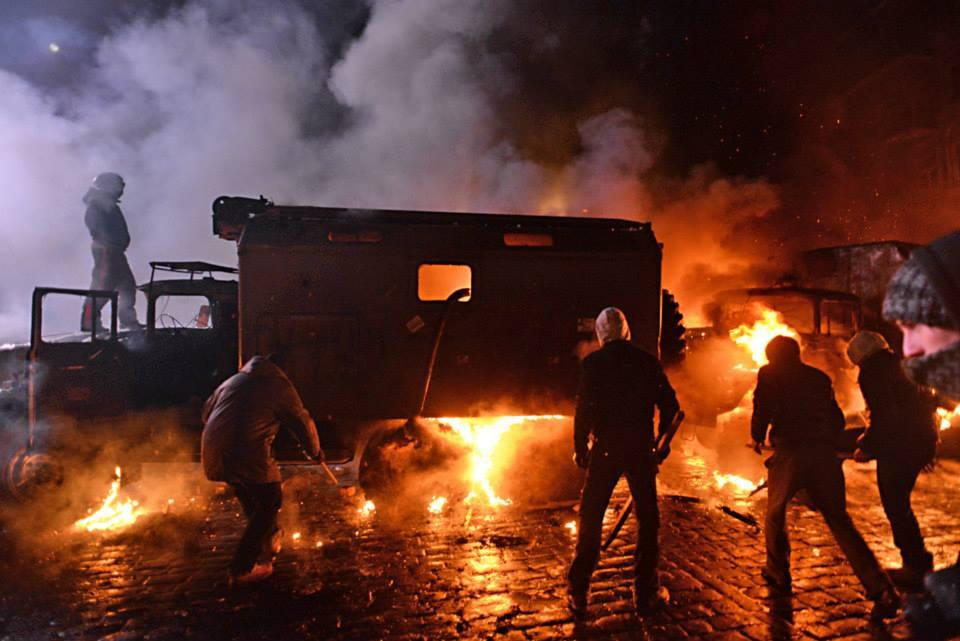fire: (448, 422, 528, 500), (75, 487, 143, 538), (727, 310, 782, 367)
smoke: (363, 78, 465, 195), (165, 95, 283, 195), (10, 157, 80, 278)
